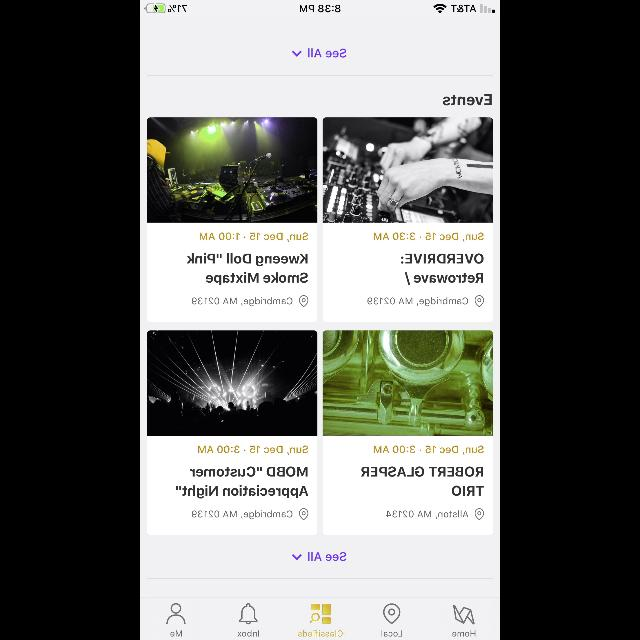icon: (310, 604, 330, 624), (238, 604, 258, 624), (166, 604, 186, 624), (384, 604, 401, 624), (474, 295, 484, 307), (474, 508, 484, 520), (300, 295, 308, 307), (300, 508, 308, 520), (292, 554, 302, 560), (292, 51, 302, 57)
image: (146, 330, 318, 436), (323, 330, 493, 436), (323, 118, 493, 222), (147, 118, 317, 222), (452, 605, 474, 625)
text: (176, 466, 308, 499), (186, 252, 308, 286), (361, 466, 483, 496), (401, 253, 483, 284), (374, 232, 484, 242), (374, 445, 484, 455), (198, 445, 308, 455), (200, 233, 308, 243), (368, 297, 468, 307), (192, 510, 292, 520), (386, 510, 468, 520), (192, 298, 292, 306), (444, 94, 492, 105), (308, 48, 346, 58), (308, 552, 346, 562), (298, 630, 342, 636), (452, 631, 474, 637), (237, 630, 259, 636), (382, 630, 402, 636), (170, 630, 182, 636)
uppertaskbar: (140, 0, 500, 14)
